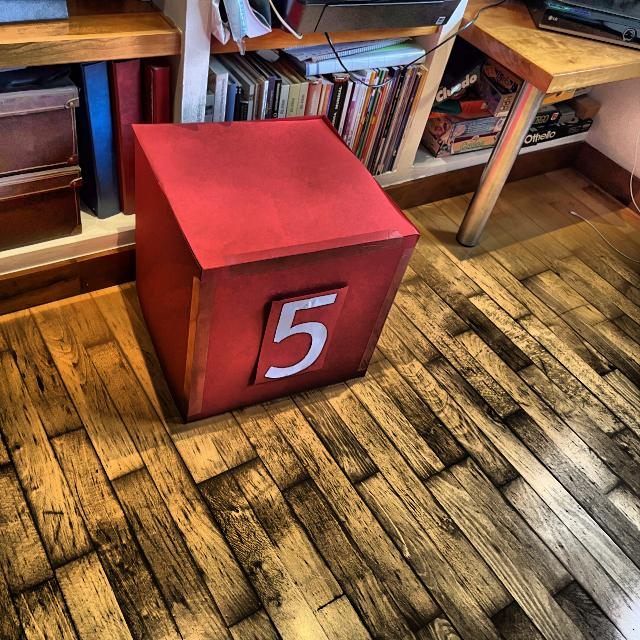five: (260, 292, 338, 380)
red box: (134, 123, 420, 425)
